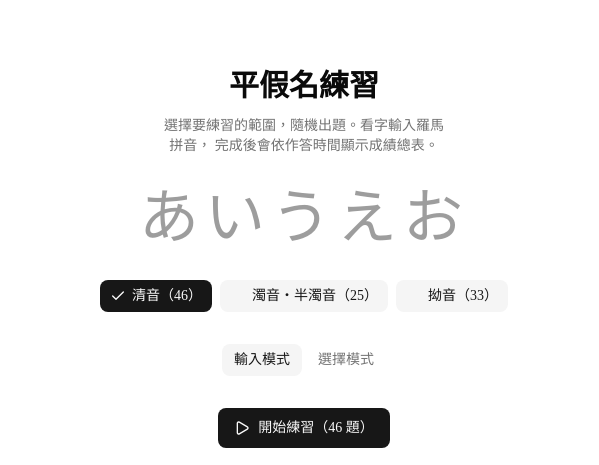
it: practice flow › shows the start screen and starts a 46-question session
The image size is (599, 465).
Click the button "開始練習（46 題）". click: [304, 428]
box: [218, 408, 390, 448]
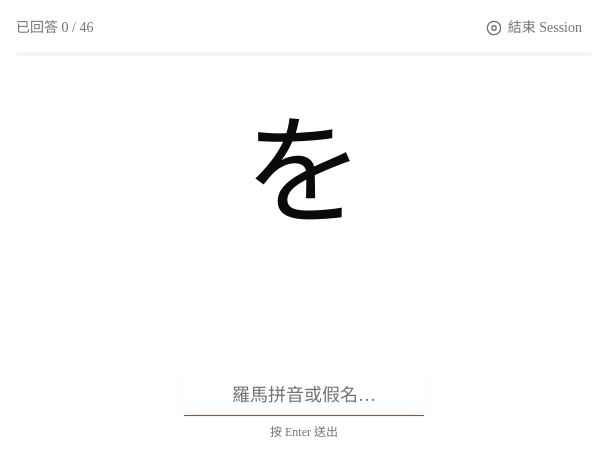
Result: the text "已回答 0 / 46" is shown at [16, 18, 93, 38]
